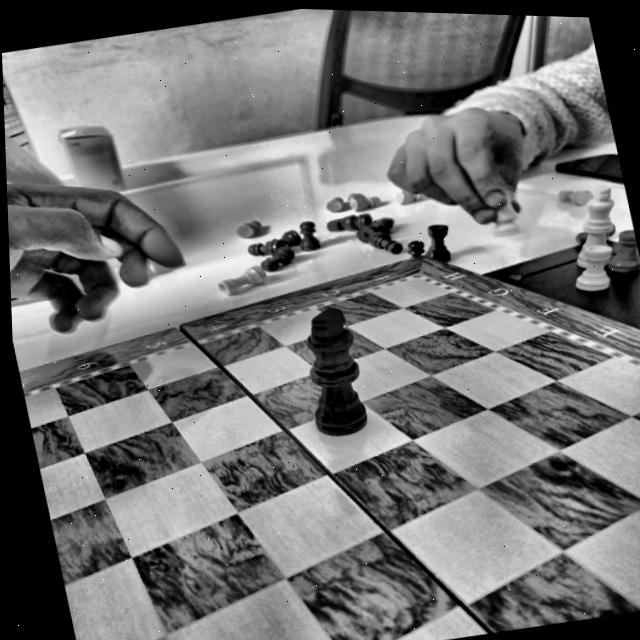black-king: (288, 299, 378, 445)
